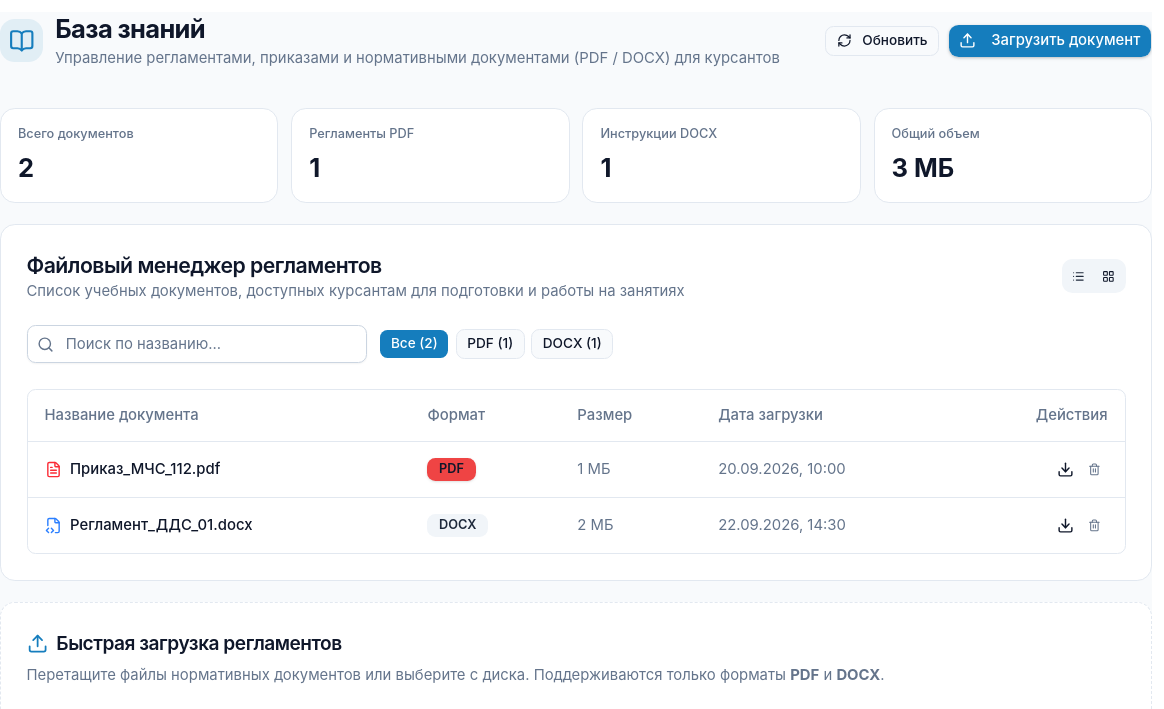
Scenario: 27.6: База знаний › should filter documents by search query
Check: the text "Приказ_МЧС_112.pdf" is shown, box [70,459,220,480]
Check: the text "Регламент_ДДС_01.docx" is shown, box [70,515,252,536]
In the field with placeholder "Поиск по названию...": (196, 344) [26,325,366,364], type "МЧС"
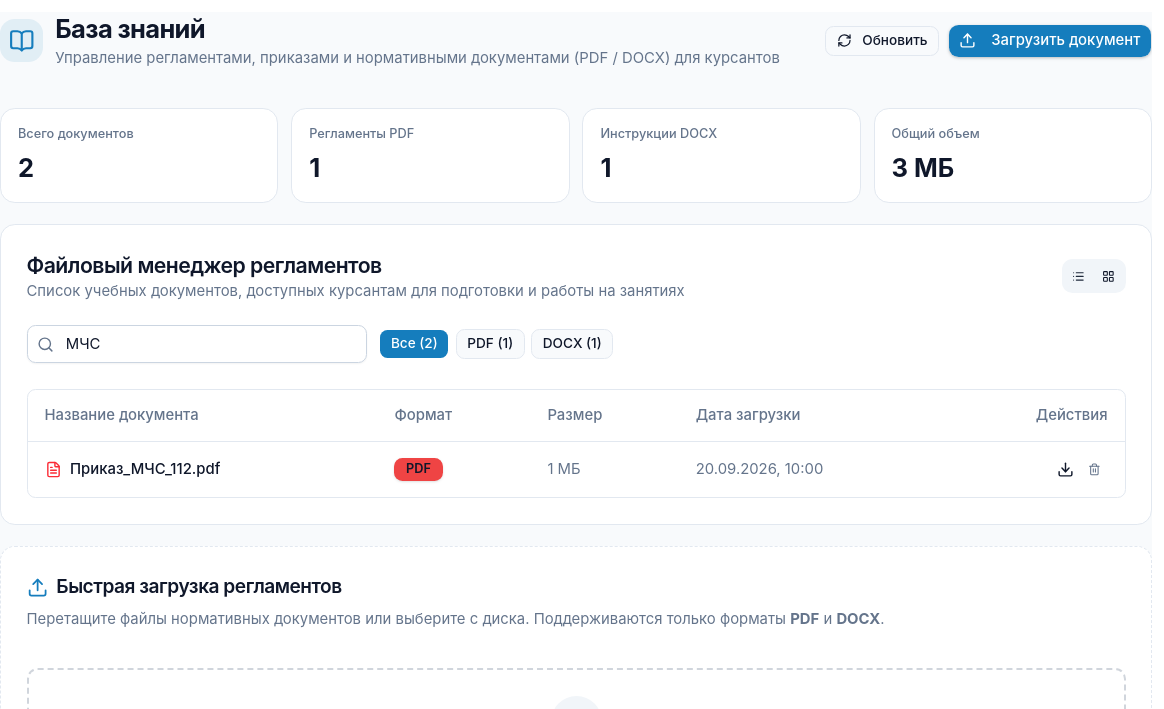
Check: the text "Приказ_МЧС_112.pdf" is shown, box [70,459,220,480]
Check: the text "Регламент_ДДС_01.docx" is gone
